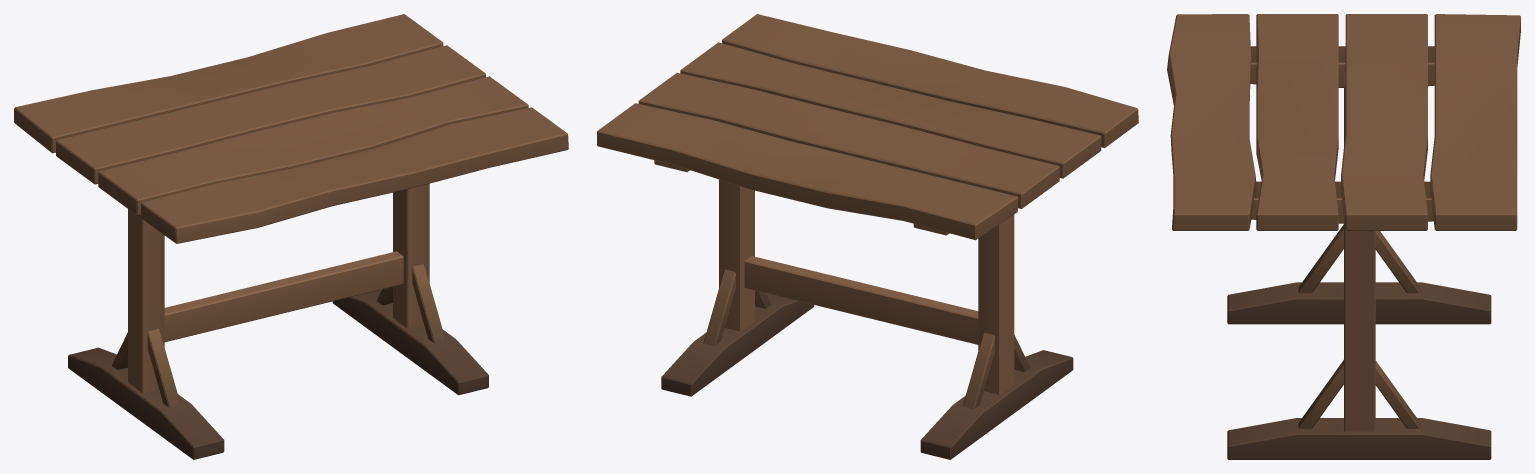
Rendered from Table_2.fbx.
3 views of the same model, side by side, from view 1: azimuth 30°, elevation 25°; view 2: azimuth 150°, elevation 25°; view 3: azimuth 270°, elevation 25° (orthographic). The views are drawn at different scales.
Visible parts, largest first — view 1: Table_2; view 2: Table_2; view 3: Table_2.
Part boxes in pixels (x1,y1,x2,y2): Table_2: [14, 14, 568, 459]; Table_2: [597, 14, 1138, 459]; Table_2: [1167, 14, 1520, 459].
Bounding box in the file's own units: 87.09 × 55.66 × 64.92.
